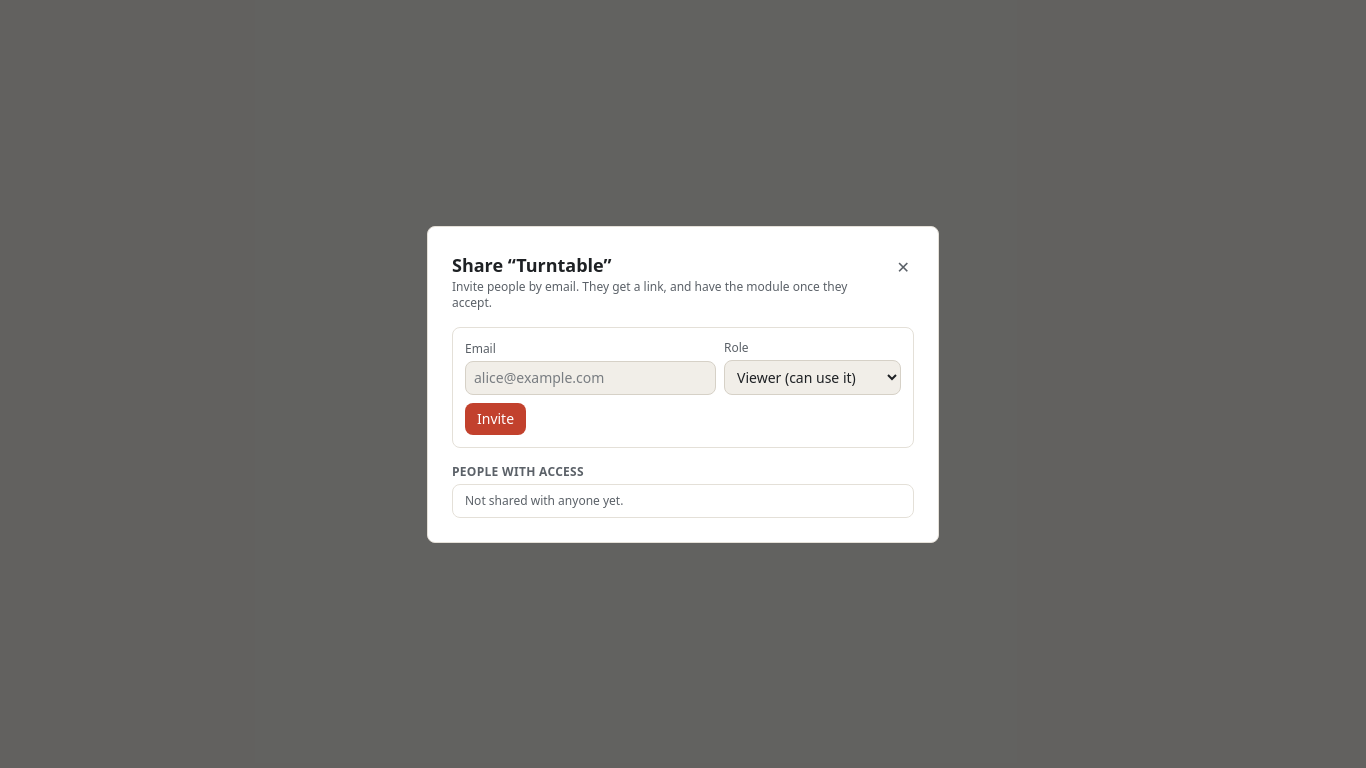
Test: Share with people (module) › the owner invites by email, sees the link and the waiting invite, and can cancel it
This screenshot has width=1366, height=768.
Expected: the list item "Not shared with anyone yet." is shown, [465,492,623,508]
Type "bob@example.com" into the field with placeholder "alice@example.com" at (590, 378), box [465,360,716,394]
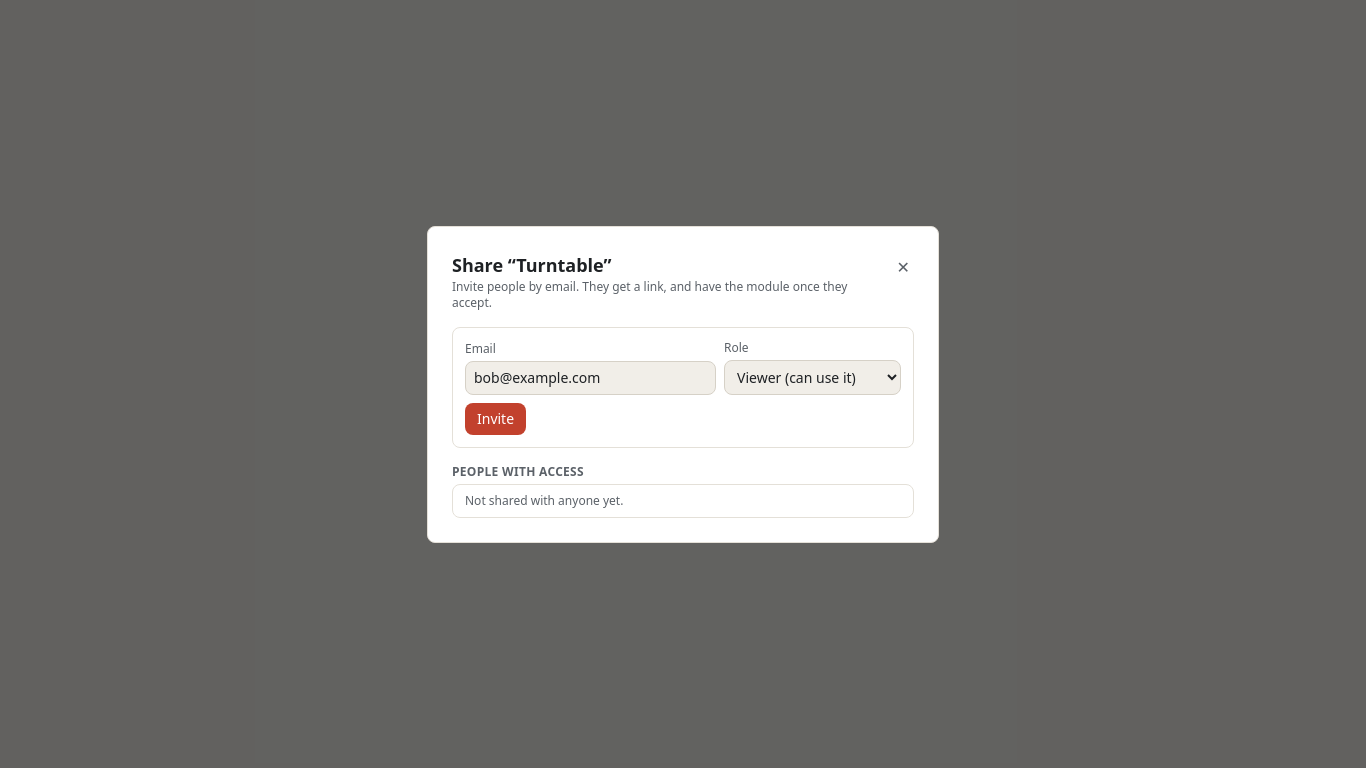
Select "Editor (can change it)" in the dropdown at (812, 377), box [724,360,901,394]
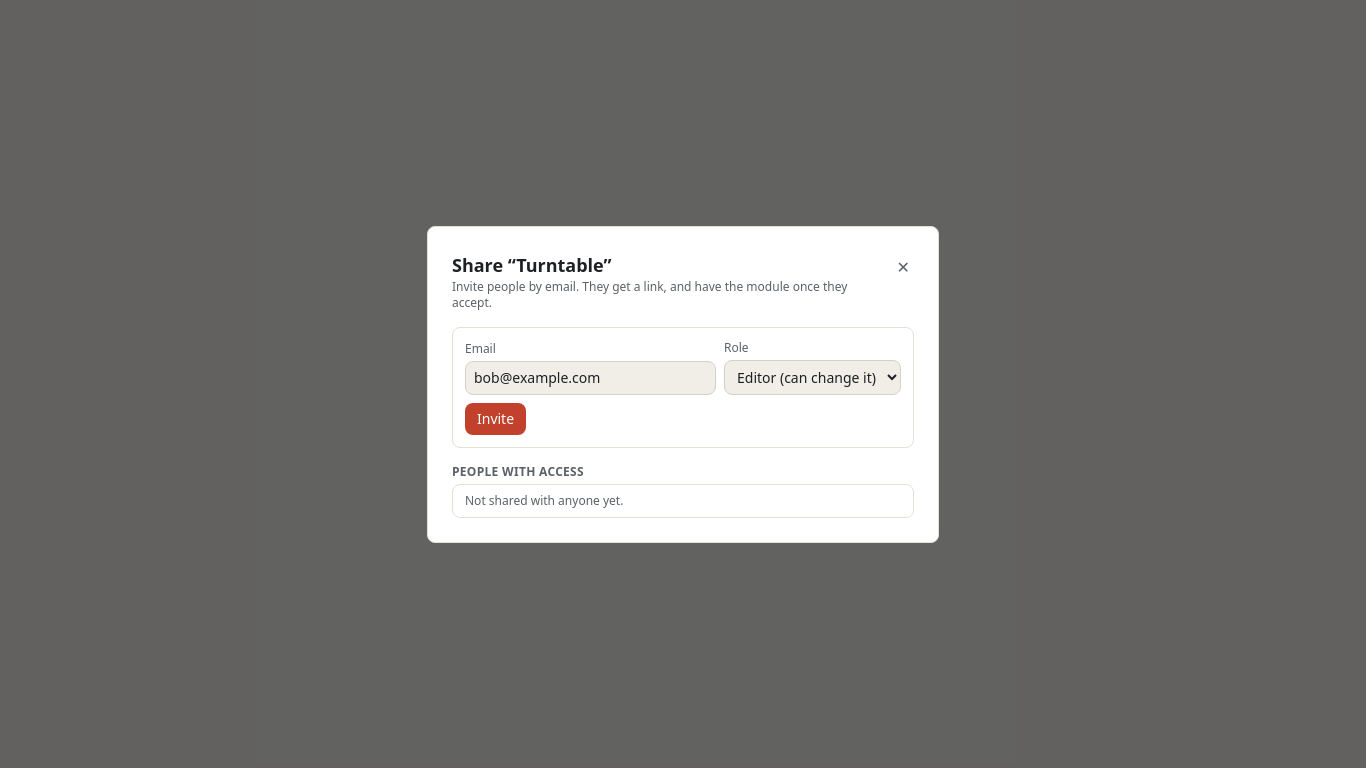
Click the button "Invite" at (496, 418), box [465,402,526,434]
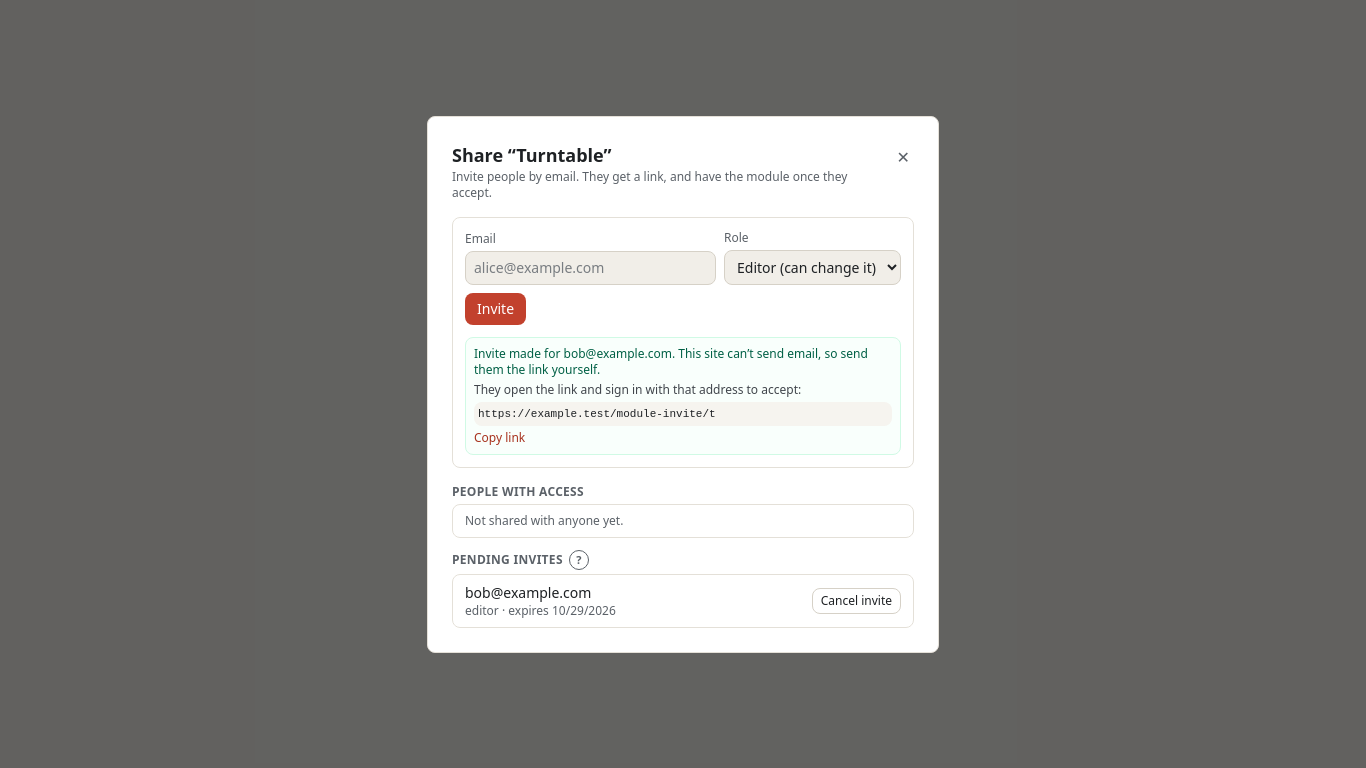
Now the message shows "https://example.test/module-invite/t", box [478,408,716,420]
Now the message shows "send them the link yourself", box [474,344,868,378]
Now the list with test id "module-invites" shows "bob@example.com", box [465,582,591,602]
Click the button "Cancel invite" at (856, 600), box [812,588,901,614]
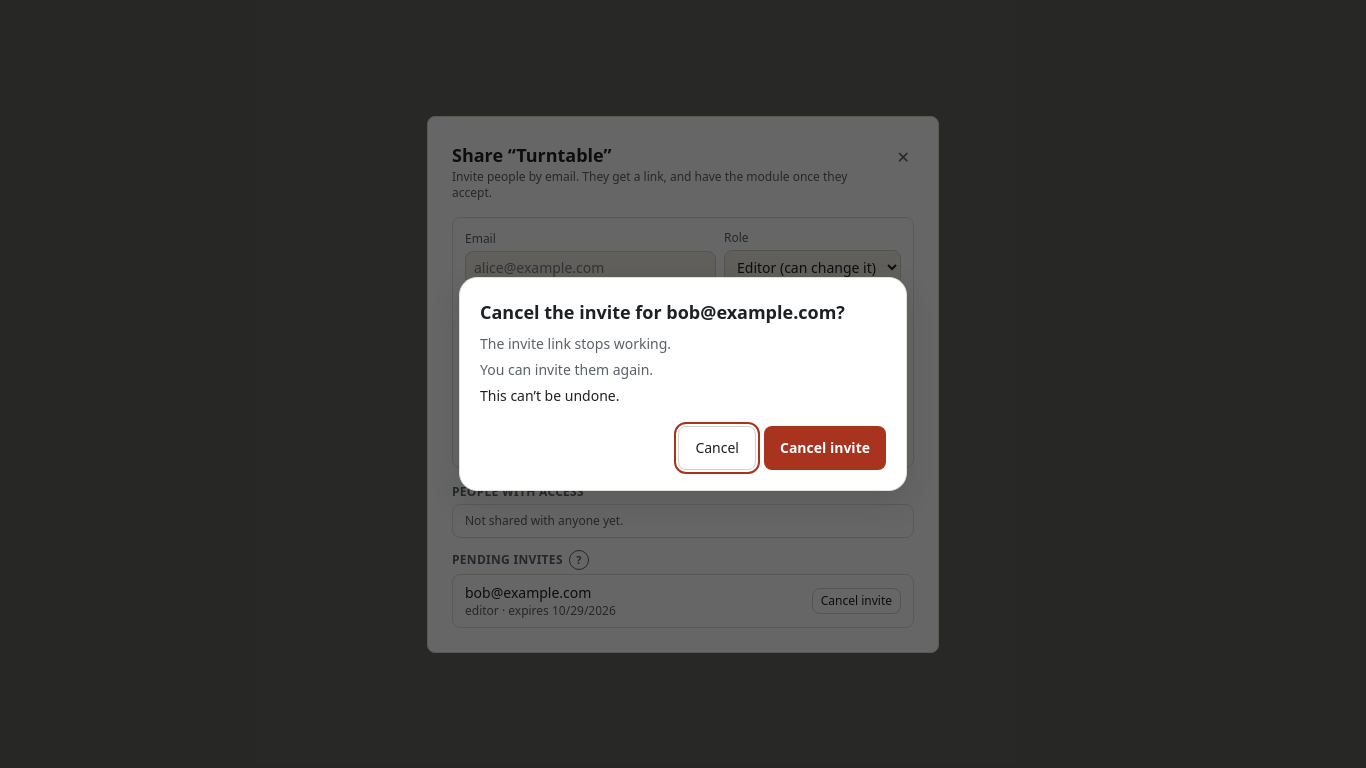
Click the button "Cancel invite" at (825, 448), box [764,426,886,470]
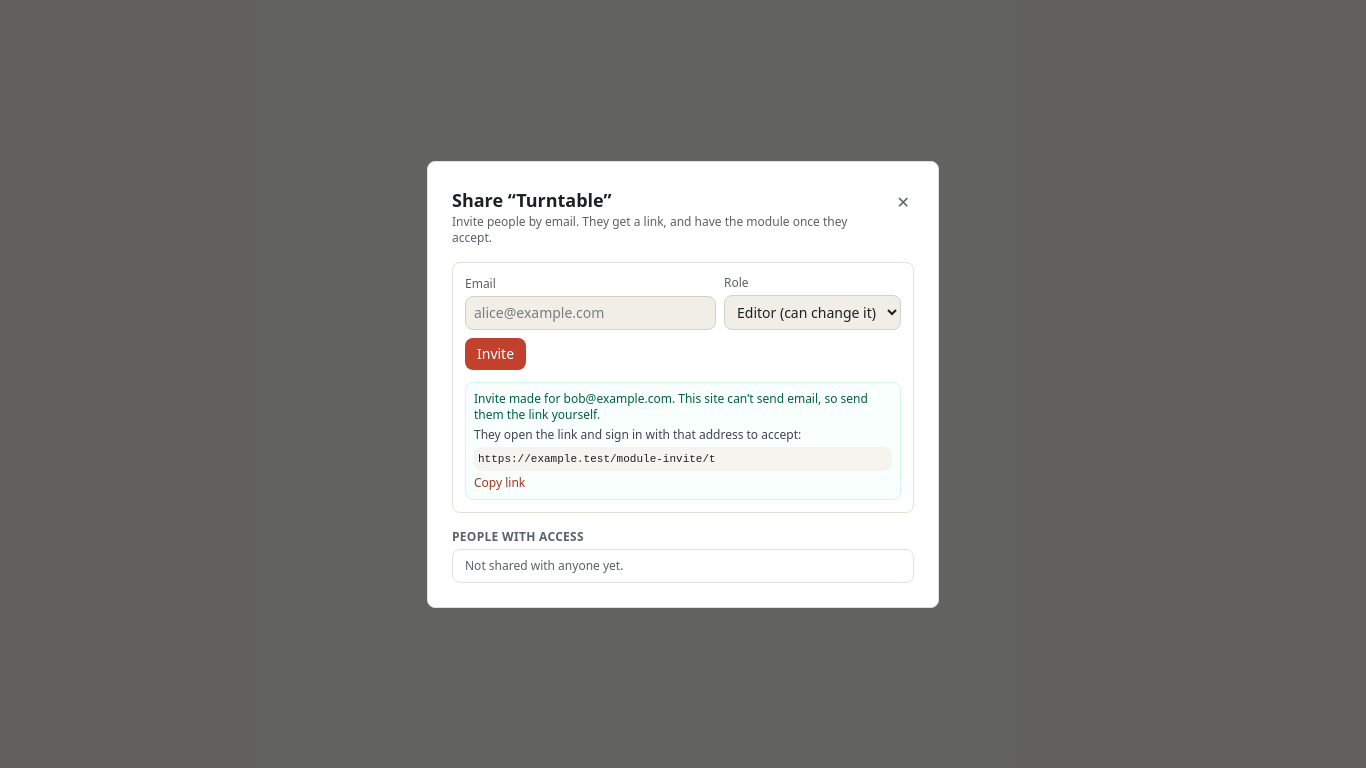
Now the list with test id "module-invites" is gone
